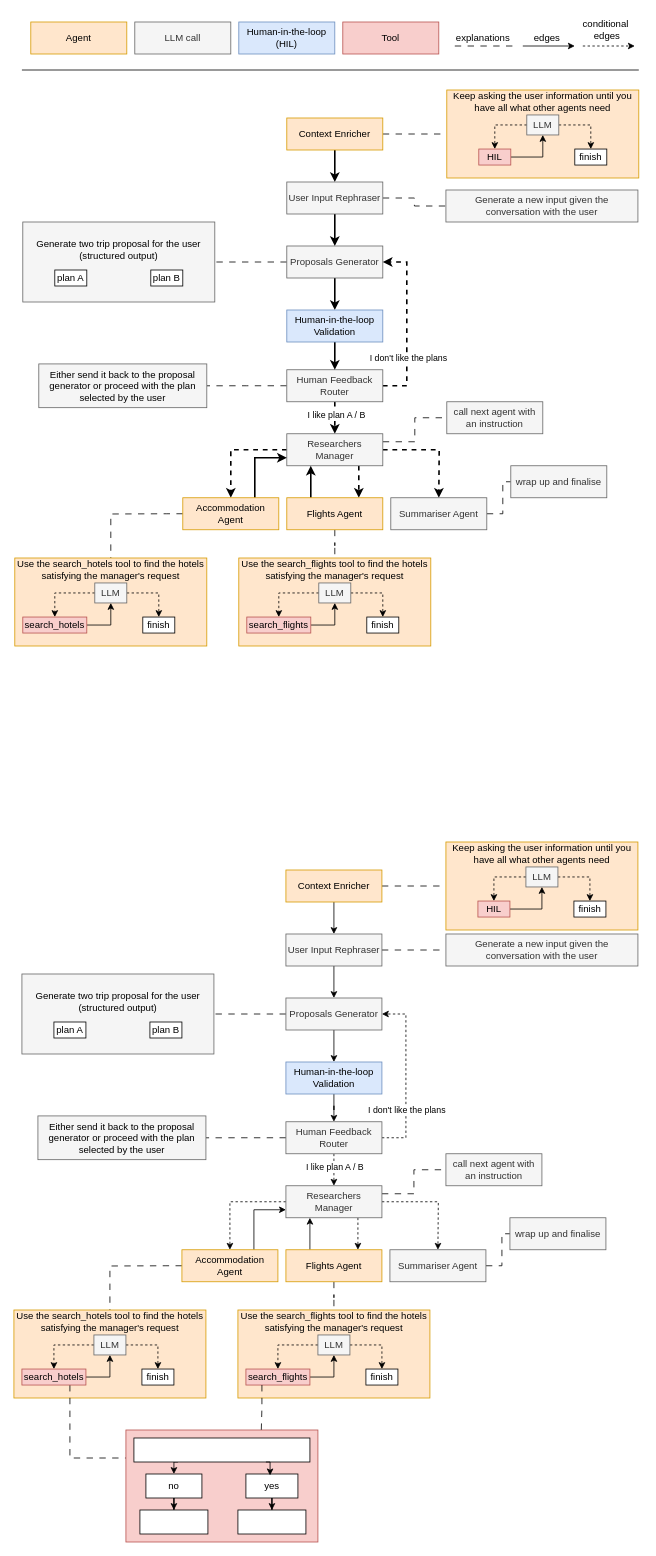
This 656x1556 diagram has some shape labels left out. Each missing label, with the centre of its shape:
"call api and save in cache" goes at (173,1521).
"lookup in cache if this call was already made today (assumption)" goes at (221,1449).
"return cached result" goes at (271,1521).
